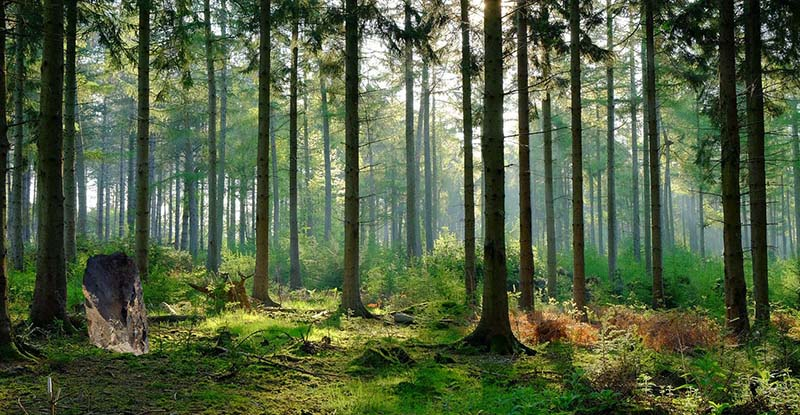Rocks: (72, 245, 166, 363)
